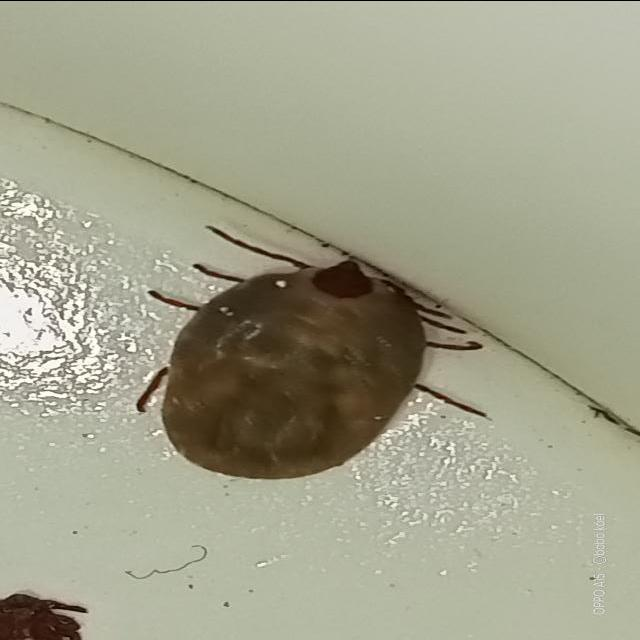Rhipicephalus Sanguineus-F-Fed: (136, 222, 492, 479)
